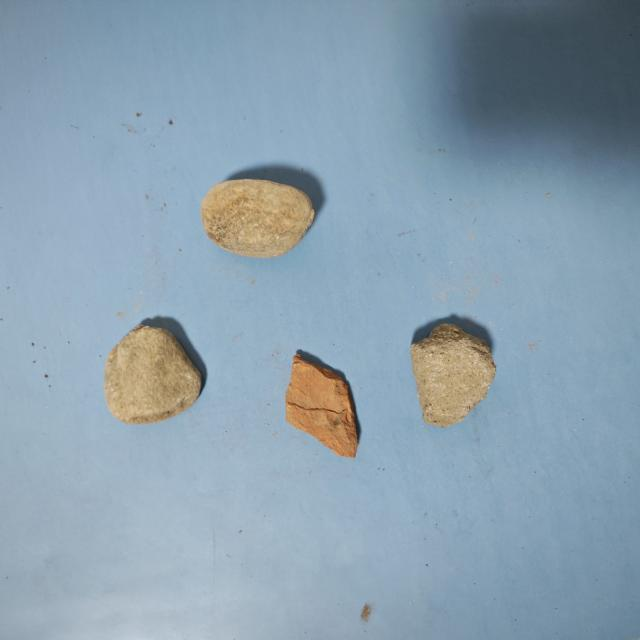-Other waste - brick-: (102, 325, 204, 426), (410, 320, 498, 430), (283, 352, 361, 458)
-Other waste - pebble-: (201, 175, 319, 259)
